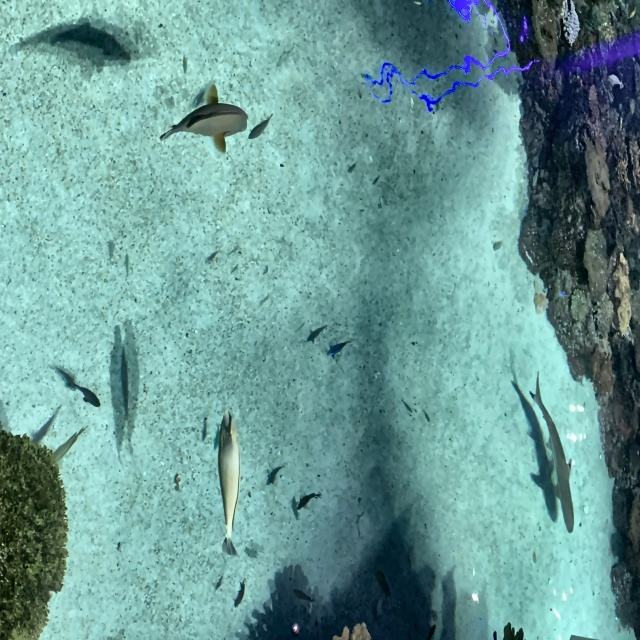fish: (161, 90, 249, 156), (51, 19, 133, 68), (216, 409, 241, 561), (50, 429, 81, 466), (74, 374, 102, 412), (247, 113, 273, 140), (293, 489, 318, 515), (232, 574, 248, 612), (121, 350, 129, 416), (325, 339, 349, 360), (307, 325, 325, 343)
shark: (530, 369, 574, 534)
